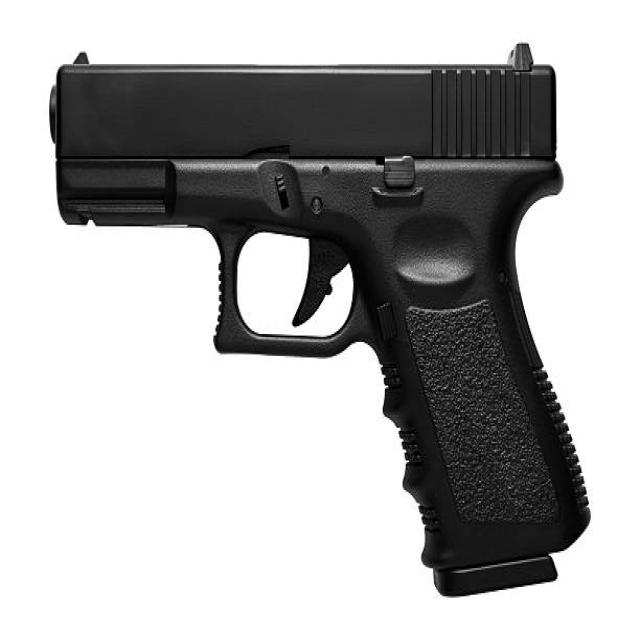pistol: (41, 32, 595, 606)
